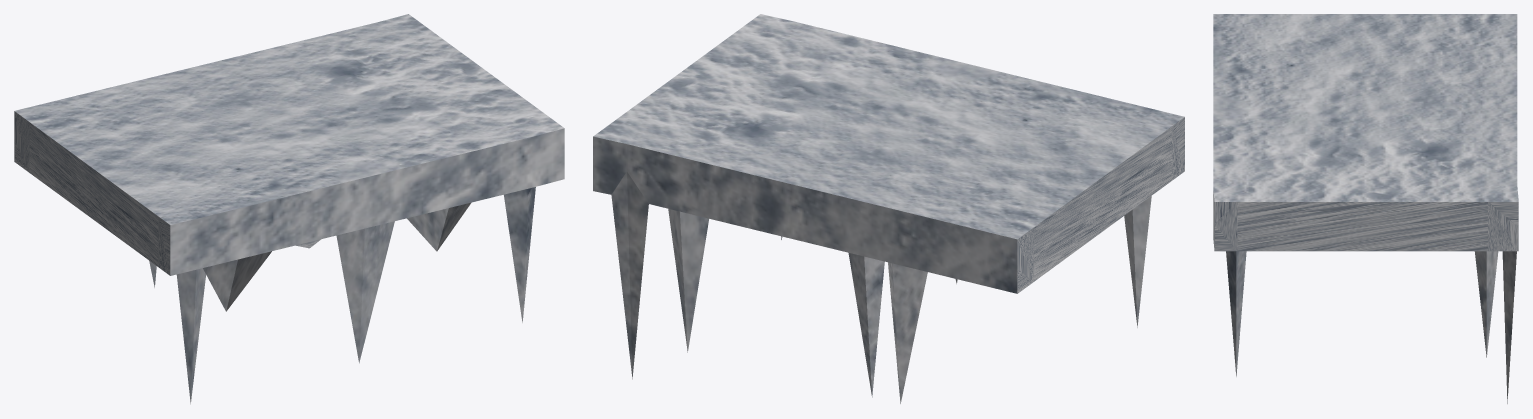
The model's file is snow_1.fbx.
3 renders of one model, left to right at view 1: azimuth 30°, elevation 25°; view 2: azimuth 150°, elevation 25°; view 3: azimuth 270°, elevation 25°, orthographic. The views are drawn at different scales.
Visible parts, largest first — view 1: Snow_p1:headusOBJexport; view 2: Snow_p1:headusOBJexport; view 3: Snow_p1:headusOBJexport.
Part boxes in pixels (x1,y1,x2,y2): Snow_p1:headusOBJexport: (14, 14, 564, 404); Snow_p1:headusOBJexport: (593, 14, 1184, 403); Snow_p1:headusOBJexport: (1213, 14, 1518, 403).
Size of the model in its own units: 169 by 91.28 by 116.
